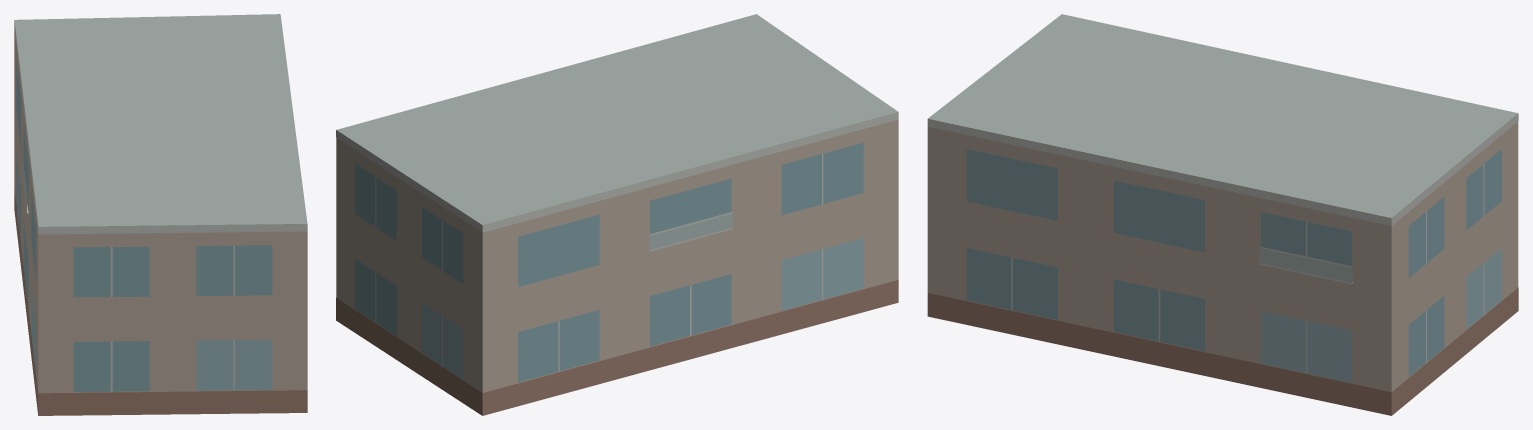
The model's file is survey-upis-32665871.glb.
The picture shows the model from 3 angles, left to right: view 1: azimuth 30°, elevation 25°; view 2: azimuth 150°, elevation 25°; view 3: azimuth 270°, elevation 25°; orthographic projection. The views are drawn at different scales.
Parts seen in each view (by area): view 1: survey-upis-32665871.tmp; view 2: survey-upis-32665871.tmp; view 3: survey-upis-32665871.tmp.
Boxes of the visible parts, x1=… form: survey-upis-32665871.tmp: x1=14, y1=14, x2=307, y2=415; survey-upis-32665871.tmp: x1=336, y1=14, x2=898, y2=415; survey-upis-32665871.tmp: x1=927, y1=14, x2=1518, y2=415.
Bounding box in the file's own units: 13.52 × 6.1 × 16.53.
